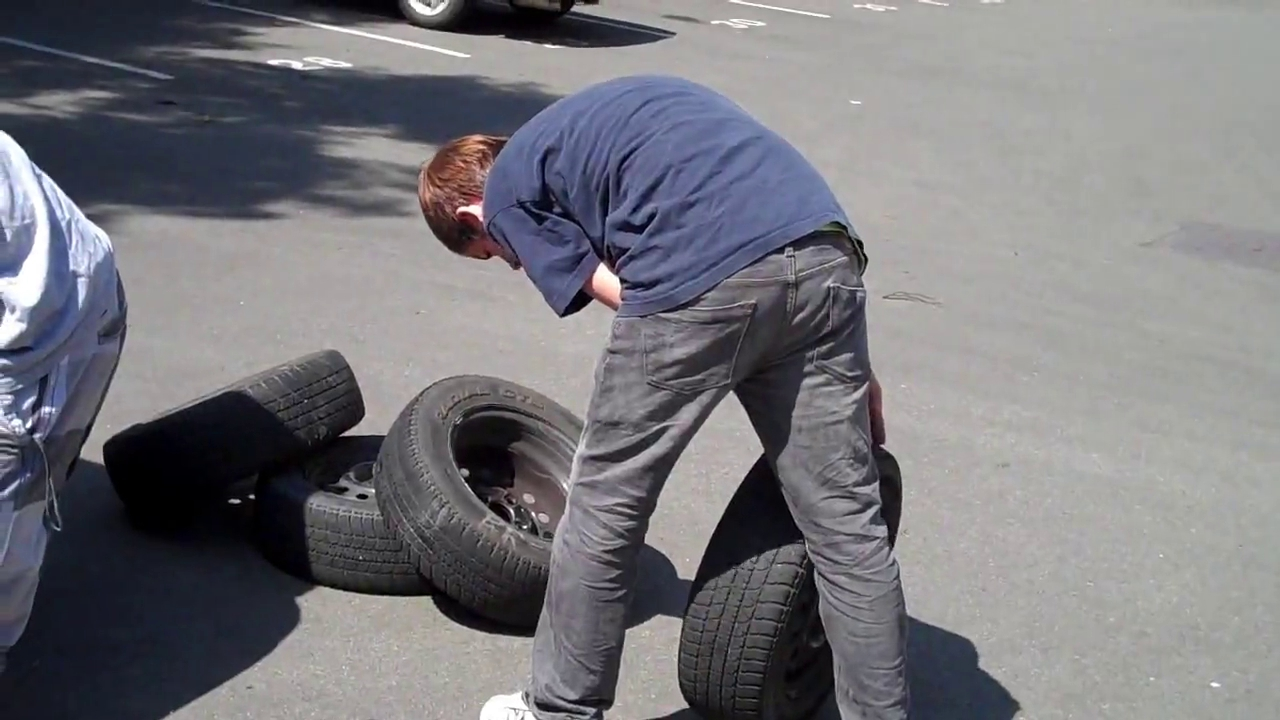person: (418, 74, 911, 720)
